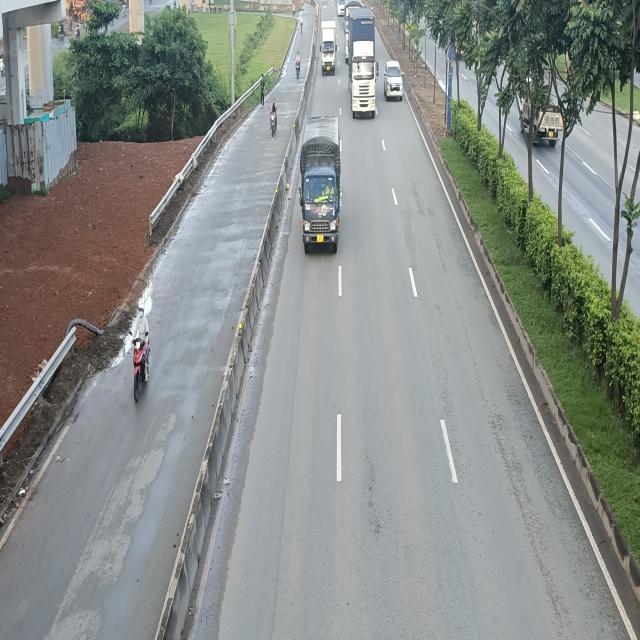car: (383, 61, 405, 102)
container: (346, 8, 378, 121)
truck: (301, 117, 345, 257), (319, 21, 337, 76)
